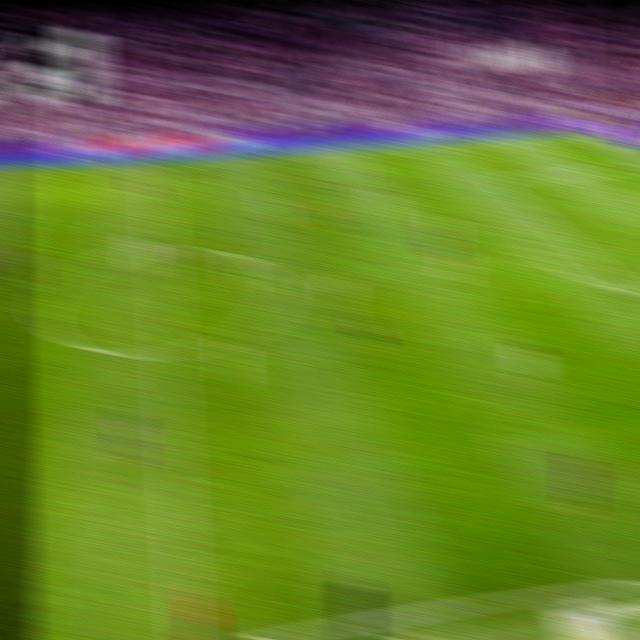bigarea_top_inner: (483, 170, 506, 188)
bigarea_top_outter: (623, 156, 640, 172)
bottom_arc_area_intersection: (618, 279, 640, 300)
corner: (563, 126, 587, 139)
halfcircle_bottom: (155, 338, 183, 366)
halfcircle_top: (148, 235, 174, 260)
midline_top_intersection: (144, 156, 168, 172)
top_arc_area_intersection: (535, 212, 558, 231)
